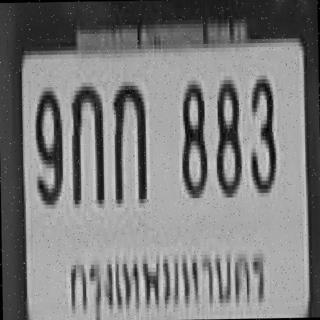A01: (111, 77, 145, 199), (69, 80, 103, 202)
N03: (248, 71, 274, 189)
N08: (179, 76, 206, 194), (214, 75, 240, 194)
N09: (33, 83, 61, 201)
P04: (65, 241, 270, 320)
